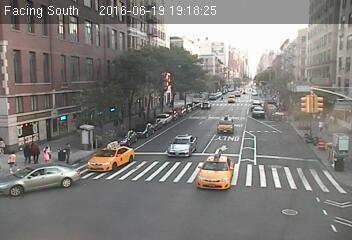neg: (330, 136, 351, 164), (220, 142, 239, 168), (194, 29, 212, 54), (55, 108, 71, 129), (27, 165, 42, 186), (317, 147, 330, 165)
pos: (57, 140, 76, 166), (1, 151, 19, 176), (312, 117, 329, 139), (40, 144, 55, 165)
